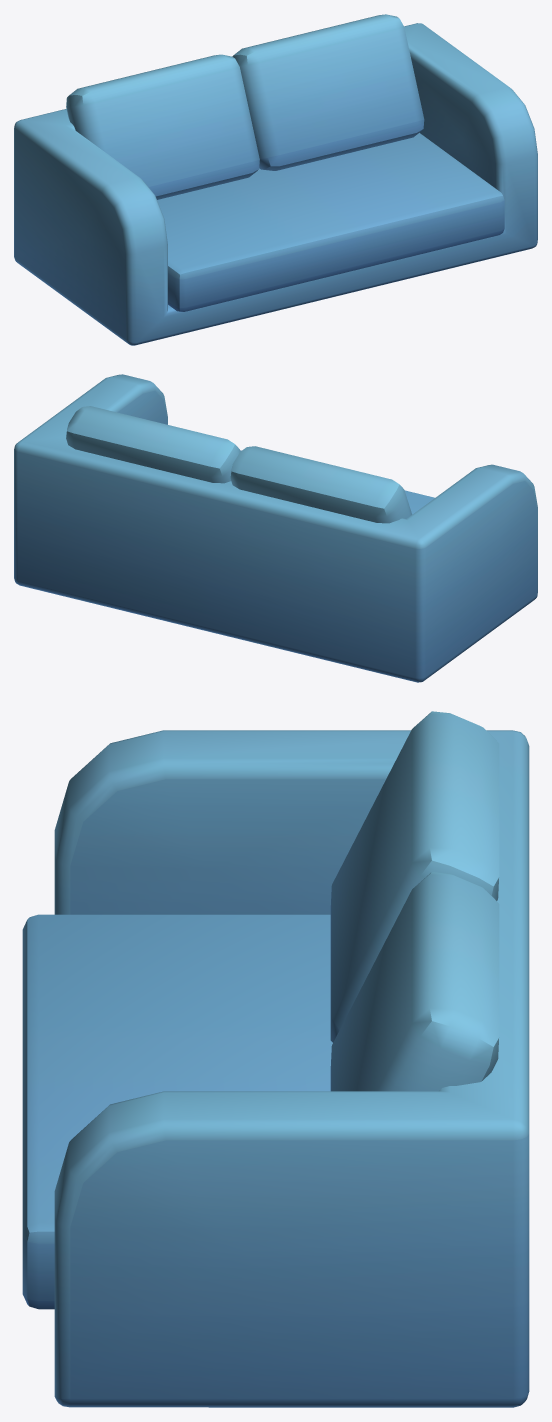
The model's file is sofa.glb.
3 views of the same model, one above another, from view 1: azimuth 30°, elevation 25°; view 2: azimuth 150°, elevation 25°; view 3: azimuth 270°, elevation 25° (orthographic). The views are drawn at different scales.
Visible parts, largest first — view 1: couch; view 2: couch; view 3: couch.
Boxes of the visible parts, box(x1,y1,x2,y2) form: couch: box(14, 14, 537, 345); couch: box(14, 374, 537, 682); couch: box(22, 711, 529, 1407).
Size of the model in its own units: 2.08 by 0.85 by 1.11.
1 material, 1 textured.
